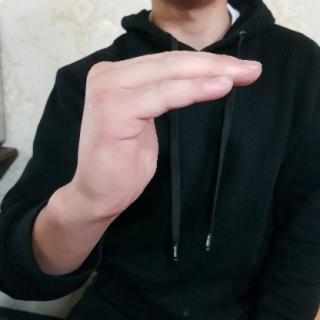HAA: (64, 45, 264, 228)
